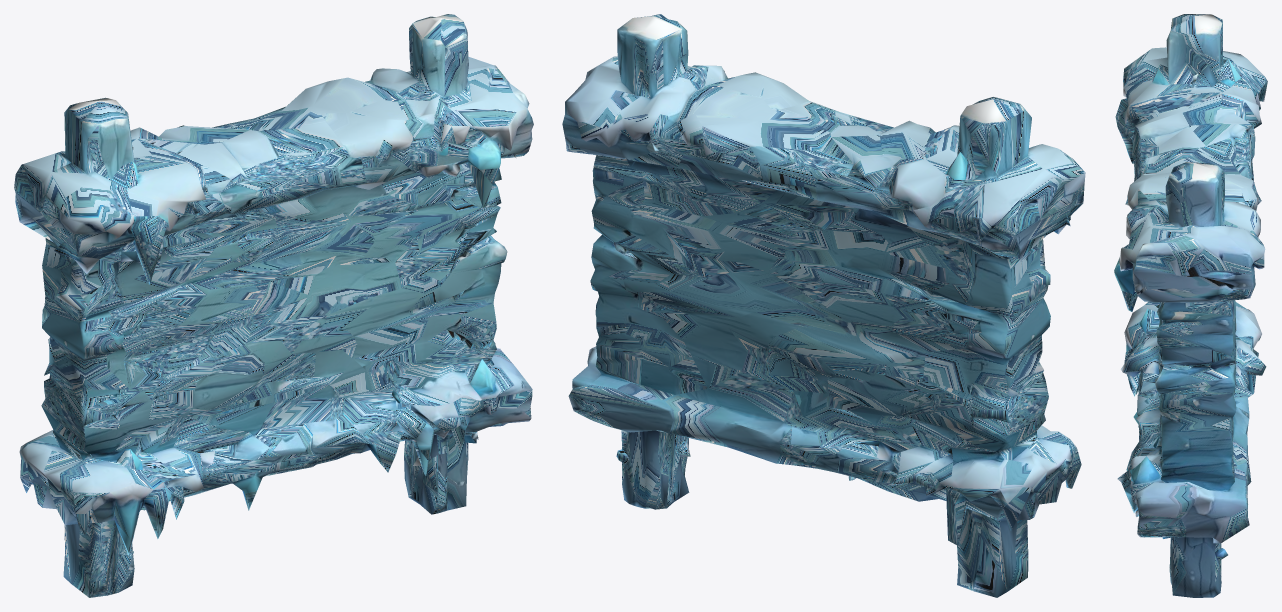
File: ice_mineshaft_sign_01.glb
3 views of the same model, side by side, from view 1: azimuth 30°, elevation 25°; view 2: azimuth 150°, elevation 25°; view 3: azimuth 270°, elevation 25° (orthographic). The views are drawn at different scales.
Parts seen in each view (by area): view 1: tripo_node_10d65057-7a1a-4858-a9cf-175898bd4006; view 2: tripo_node_10d65057-7a1a-4858-a9cf-175898bd4006; view 3: tripo_node_10d65057-7a1a-4858-a9cf-175898bd4006.
Boxes of the visible parts, x1,y1,x2,y2 form: tripo_node_10d65057-7a1a-4858-a9cf-175898bd4006: [14, 14, 533, 597]; tripo_node_10d65057-7a1a-4858-a9cf-175898bd4006: [562, 14, 1085, 597]; tripo_node_10d65057-7a1a-4858-a9cf-175898bd4006: [1114, 14, 1267, 597].
Size of the model in its own units: 0.9797 by 0.9619 by 0.3134.
Materials: 1 (1 with a texture image).
